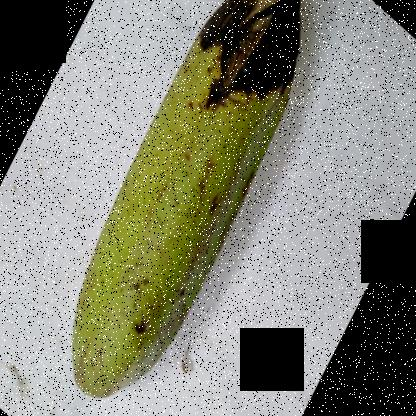rotten: (182, 1, 336, 125)
